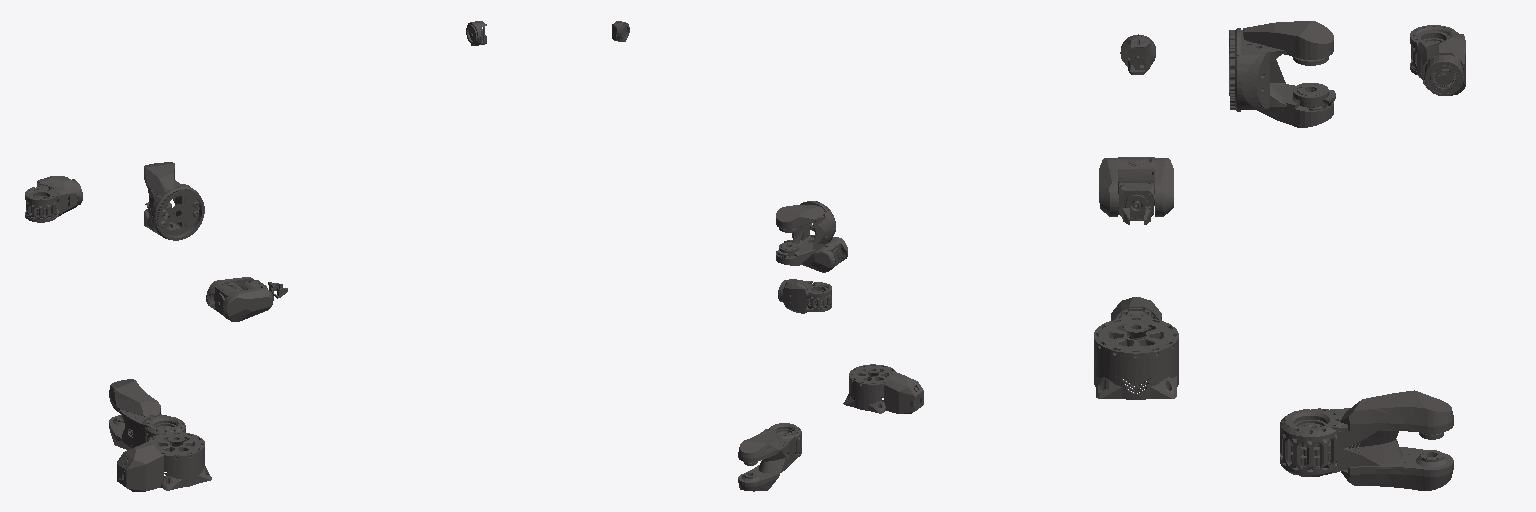
The robot description file, URDF, robot "arctos":
<?xml version="1.0"?>
<robot name="arctos">
  <link name="arctos_base">
    <visual>
      <origin xyz="0 0 0" rpy="0 0 0" />
      <geometry>
        <mesh filename="arctos_base.stl"/>
      </geometry>
      <material name="arctos_base_material">
        <color rgba="0.365 0.349 0.349 1.0"/>
      </material>
    </visual>
    <collision>
      <origin xyz="0 0 0" rpy="0 0 0" />
      <geometry>
        <mesh filename="arctos_base.stl"/>
      </geometry>
    </collision>
    <inertial>
      <origin xyz="-0.036191 0.000208 0.068366" rpy="0 0 0"/>
      <mass value="1.041338" />
      <inertia ixx="0.004115" ixy="0.000010" ixz="-0.000245" iyy="0.008014" iyz="0.000020" izz="0.009152" />
    </inertial>
  </link>

  <link name="arctos_lower">
    <visual>
      <origin xyz="0 0 0" rpy="3.14159 0 0" />
      <geometry>
        <mesh filename="arctos_lower.stl"/>
      </geometry>
      <material name="arctos_lower_material">
        <color rgba="0.365 0.349 0.349 1.0"/>
      </material>
    </visual>
    <collision>
      <origin xyz="0 0 0" rpy="3.14159 0 0" />
      <geometry>
        <mesh filename="arctos_lower.stl"/>
      </geometry>
    </collision>
    <inertial>
      <origin xyz="0.004745 -0.000758 -0.068543" rpy="0 0 0"/>
      <mass value="1.411832" />
      <inertia ixx="0.009987" ixy="-0.000016" ixz="0.000568" iyy="0.008507" iyz="-0.000040" izz="0.007455" />
    </inertial>
  </link>

  <link name="arctos_middle">
    <visual>
      <origin xyz="0 0 0" rpy="1.5708 0 0" />
      <geometry>
        <mesh filename="arctos_middle.stl"/>
      </geometry>
      <material name="arctos_middle_material">
        <color rgba="0.365 0.349 0.349 1.0"/>
      </material>
    </visual>
    <collision>
      <origin xyz="0 0 0" rpy="1.5708 0 0" />
      <geometry>
        <mesh filename="arctos_middle.stl"/>
      </geometry>
    </collision>
    <inertial>
      <origin xyz="-0.007761 -0.097207 -0.002104" rpy="0 0 0"/>
      <mass value="1.572243" />
      <inertia ixx="0.021008" ixy="-0.000581" ixz="-0.000002" iyy="0.005410" iyz="-0.000355" izz="0.019428" />
    </inertial>
  </link>

  <link name="arctos_upper">
    <visual>
      <origin xyz="0 0 0" rpy="1.5708 0 0" />
      <geometry>
        <mesh filename="arctos_upper.stl"/>
      </geometry>
      <material name="arctos_upper_material">
        <color rgba="0.365 0.349 0.349 1.0"/>
      </material>
    </visual>
    <collision>
      <origin xyz="0 0 0" rpy="1.5708 0 0" />
      <geometry>
        <mesh filename="arctos_upper.stl"/>
      </geometry>
    </collision>
    <inertial>
      <origin xyz="0.042604 -0.013186 -0.004432" rpy="0 0 0"/>
      <mass value="0.627244" />
      <inertia ixx="0.001098" ixy="0.000344" ixz="0.000027" iyy="0.002304" iyz="0.000001" izz="0.002429" />
    </inertial>
  </link>

  <link name="wrist">
    <visual>
      <origin xyz="0 0 0" rpy="1.5708 1.5708 0" />
      <geometry>
        <mesh filename="wrist.stl"/>
      </geometry>
      <material name="wrist_material">
        <color rgba="0.365 0.349 0.349 1.0"/>
      </material>
    </visual>
    <collision>
      <origin xyz="0 0 0" rpy="1.5708 1.5708 0" />
      <geometry>
        <mesh filename="wrist.stl"/>
      </geometry>
    </collision>
    <inertial>
      <origin xyz="0.000327 0.000886 -0.062634" rpy="0 0 0"/>
      <mass value="0.567009" />
      <inertia ixx="0.001722" ixy="-0.000003" ixz="0.000002" iyy="0.002528" iyz="0.000004" izz="0.001648" />
    </inertial>
  </link>

  <link name="gripper_assembly_inner">
    <visual>
      <origin xyz="0.039835 0 0" rpy="1.5708 0 0" />
      <geometry>
        <mesh filename="gripper_assembly_inner.stl"/>
      </geometry>
      <material name="gripper_assembly_inner_material">
        <color rgba="0.365 0.349 0.349 1.0"/>
      </material>
    </visual>
    <collision>
      <origin xyz="0.039835 0 0" rpy="1.5708 0 0" />
      <geometry>
        <mesh filename="gripper_assembly_inner.stl"/>
      </geometry>
    </collision>
    <inertial>
      <origin xyz="0.011021 0.000942 -0.000011" rpy="0 0 0"/>
      <mass value="0.194632" />
      <inertia ixx="0.000191" ixy="-0.000003" ixz="0.000001" iyy="0.000181" iyz="-0.000001" izz="0.000137" />
    </inertial>
  </link>

  <link name="gripper_assembly_outer">
    <visual>
      <origin xyz="0 0 0" rpy="0 1.5708 0" />
      <geometry>
        <mesh filename="gripper_assembly_outer.stl"/>
      </geometry>
      <material name="gripper_assembly_outer_material">
        <color rgba="0.365 0.349 0.349 1.0"/>
      </material>
    </visual>
    <collision>
      <origin xyz="0 0 0" rpy="0 1.5708 0" />
      <geometry>
        <mesh filename="gripper_assembly_outer.stl"/>
      </geometry>
    </collision>
    <inertial>
      <origin xyz="0.002248 0.001513 -0.015235" rpy="0 0 0"/>
      <mass value="0.133828" />
      <inertia ixx="0.000075" ixy="-0.000000" ixz="0.000001" iyy="0.000054" iyz="0.000002" izz="0.000094" />
    </inertial>
  </link>

  <link name="left_jaw">
    <visual>
      <origin xyz="0 0 0" rpy="-1.5708 0 0" />
      <geometry>
        <mesh filename="left_jaw.stl"/>
      </geometry>
      <material name="left_jaw_material">
        <color rgba="0.365 0.349 0.349 1.0"/>
      </material>
    </visual>
    <collision>
      <origin xyz="0 0 0" rpy="-1.5708 0 0" />
      <geometry>
        <mesh filename="left_jaw.stl"/>
      </geometry>
    </collision>
    <inertial>
      <origin xyz="0.009652 0.008564 -0.009362" rpy="0 0 0"/>
      <mass value="0.010463" />
      <inertia ixx="0.000001" ixy="-0.000000" ixz="0.000000" iyy="0.000002" iyz="-0.000000" izz="0.000002" />
    </inertial>
  </link>

  <link name="right_jaw">
    <visual>
      <origin xyz="0 0 0" rpy="-1.5708 0 0" />
      <geometry>
        <mesh filename="right_jaw.stl"/>
      </geometry>
      <material name="right_jaw_material">
        <color rgba="0.365 0.349 0.349 1.0"/>
      </material>
    </visual>
    <collision>
      <origin xyz="0 0 0" rpy="-1.5708 0 0" />
      <geometry>
        <mesh filename="right_jaw.stl"/>
      </geometry>
    </collision>
    <inertial>
      <origin xyz="0.009878 0.008398 -0.009370" rpy="0 0 0"/>
      <mass value="0.010168" />
      <inertia ixx="0.000001" ixy="-0.000000" ixz="0.000000" iyy="0.000002" iyz="-0.000000" izz="0.000002" />
    </inertial>
  </link>

  <joint name="slide_left" type="prismatic">
    <origin xyz="0.007431 0.030780 -0.040326" rpy="-1.5708 1.5708 0" />
    <parent link="gripper_assembly_outer" />
    <child link="left_jaw" />
    <axis xyz="0 0 1"/>
    <limit effort="70" velocity="20" lower="-0.015" upper="0"/>
    <joint_properties friction="0.0"/>
  </joint>

  <joint name="slide_right" type="prismatic">
    <origin xyz="-0.012068 -0.028986 -0.040244" rpy="1.5708 1.5708 0" />
    <parent link="gripper_assembly_outer" />
    <child link="right_jaw" />
    <axis xyz="0 0 1"/>
    <limit effort="70" velocity="20" lower="-0.015" upper="0"/>
    <joint_properties friction="0.0"/>
    <mimic joint="slide_left" multiplier="-1" offset="0"/>
  </joint>

  <joint name="outer_inner" type="revolute">
    <origin xyz="0.039835 0 0" rpy="1.5708 0 -1.5708" />
    <parent link="gripper_assembly_inner" />
    <child link="gripper_assembly_outer" />
    <axis xyz="0 0 1"/>
    <limit effort="70" velocity="20" lower="-4.71239" upper="4.71239"/>
    <joint_properties friction="0.0"/>
  </joint>

  <joint name="inner_wrist" type="revolute">
    <origin xyz="0.000219 0.001774 -0.125424" rpy="0 1.5708 0" />
    <parent link="wrist" />
    <child link="gripper_assembly_inner" />
    <axis xyz="0 0 1"/>
    <limit effort="70" velocity="20" lower="-1.74533" upper="1.74533"/>
    <joint_properties friction="0.0"/>
  </joint>

  <joint name="wrist_upper" type="revolute">
    <origin xyz="0.138743 -0.021749 -0.005493" rpy="-0.001990 -1.5708 0" />
    <parent link="arctos_upper" />
    <child link="wrist" />
    <axis xyz="0 0 1"/>
    <limit effort="70" velocity="20" lower="-4.71239" upper="4.71239"/>
    <joint_properties friction="0.0"/>
  </joint>

  <joint name="upper_middle" type="revolute">
    <origin xyz="-0.001310 -0.261007 0.005429" rpy="0 0 0" />
    <parent link="arctos_middle" />
    <child link="arctos_upper" />
    <axis xyz="0 0 1"/>
    <limit effort="70" velocity="20" lower="-1.91986" upper="0.87266"/>
    <joint_properties friction="0.0"/>
  </joint>

  <joint name="middle_lower" type="revolute">
    <origin xyz="0.020885 0.000870 -0.157722" rpy="1.5708 0 0" />
    <parent link="arctos_lower" />
    <child link="arctos_middle" />
    <axis xyz="0 0 1"/>
    <limit effort="70" velocity="20" lower="-1.22173" upper="2.18166"/>
    <joint_properties friction="0.0"/>
  </joint>

  <joint name="lower_base" type="revolute">
    <origin xyz="-0.000529 0 0.129906" rpy="-3.14159 0 0.004351" />
    <parent link="arctos_base" />
    <child link="arctos_lower" />
    <axis xyz="0 0 1"/>
    <limit effort="70" velocity="20" lower="-4.71239" upper="4.71239"/>
    <joint_properties friction="0.0"/>
  </joint>

</robot>

--- Render facts (derived) ---
3 views of the same robot in one strip: view 1: azimuth 30°, elevation 25°; view 2: azimuth 150°, elevation 25°; view 3: azimuth 270°, elevation 25° (orthographic).
Robot: arctos — 9 links, 8 joints (6 revolute, 2 prismatic); root link arctos_base; default pose: all joints at 0.
Visible links, largest first — view 1: arctos_base, arctos_lower, arctos_middle, wrist, arctos_upper; view 2: arctos_base, arctos_middle, arctos_lower, arctos_upper, wrist; view 3: arctos_middle, arctos_lower, arctos_base, arctos_upper, wrist, gripper_assembly_outer, gripper_assembly_inner.
Boxes of the visible links, x1,y1,x2,y2 form: arctos_base: (117, 432, 211, 491); arctos_lower: (144, 162, 204, 240); arctos_middle: (109, 379, 185, 449); wrist: (206, 277, 273, 321); arctos_upper: (25, 176, 82, 222); arctos_base: (843, 364, 923, 413); arctos_middle: (738, 423, 801, 491); arctos_lower: (776, 201, 835, 265); arctos_upper: (778, 279, 831, 313); wrist: (801, 235, 847, 272); arctos_middle: (1280, 390, 1453, 490); arctos_lower: (1229, 21, 1335, 127); arctos_base: (1094, 297, 1178, 399); arctos_upper: (1410, 25, 1465, 95); wrist: (1099, 157, 1173, 216); gripper_assembly_outer: (1120, 34, 1155, 74); gripper_assembly_inner: (1118, 183, 1154, 220).
Size in the robot's own frame: 1.34 by 0.8015 by 1.5 metres.
9 mesh visuals loaded from 9 distinct referenced files (9 binary STL).
